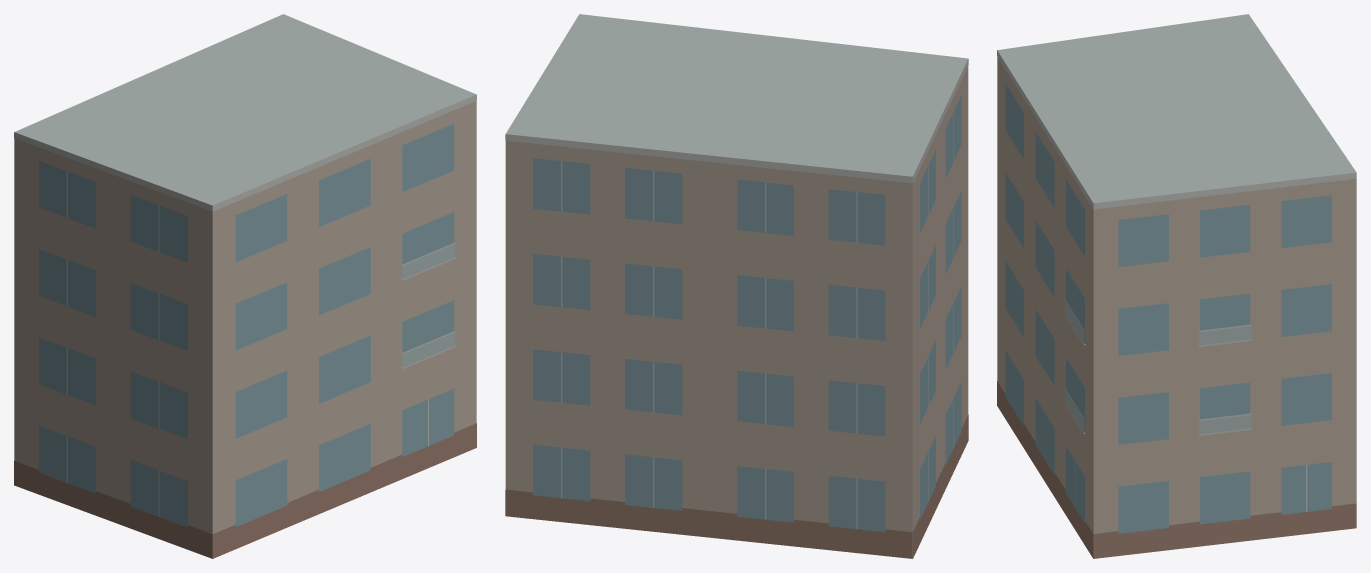
File: survey-upis-32644971.glb
The picture shows the model from 3 angles, left to right: view 1: azimuth 30°, elevation 25°; view 2: azimuth 150°, elevation 25°; view 3: azimuth 270°, elevation 25°; orthographic projection. The views are drawn at different scales.
Visible parts, largest first — view 1: survey-upis-32644971.tmp; view 2: survey-upis-32644971.tmp; view 3: survey-upis-32644971.tmp.
Boxes of the visible parts, bbox=[...] form: survey-upis-32644971.tmp: bbox=[14, 14, 476, 558]; survey-upis-32644971.tmp: bbox=[505, 14, 968, 558]; survey-upis-32644971.tmp: bbox=[997, 14, 1356, 558].
Bounding box in the file's own units: 16.11 × 14.1 × 12.93.
